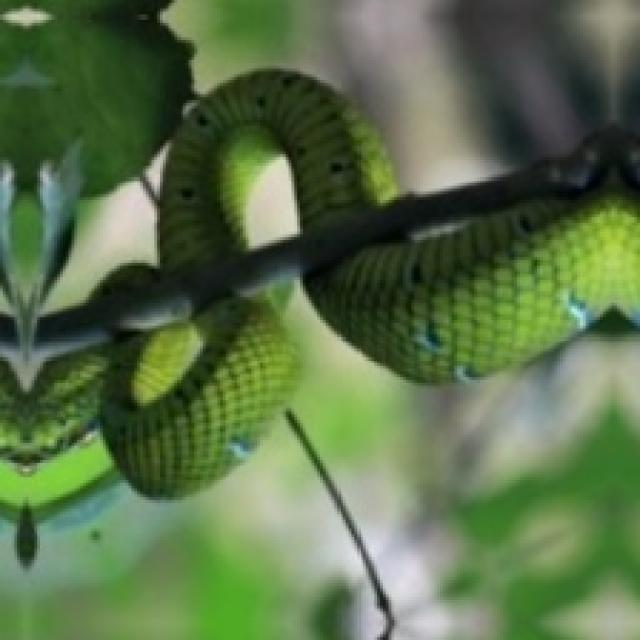north ph temple pitviper: (37, 71, 637, 494)
